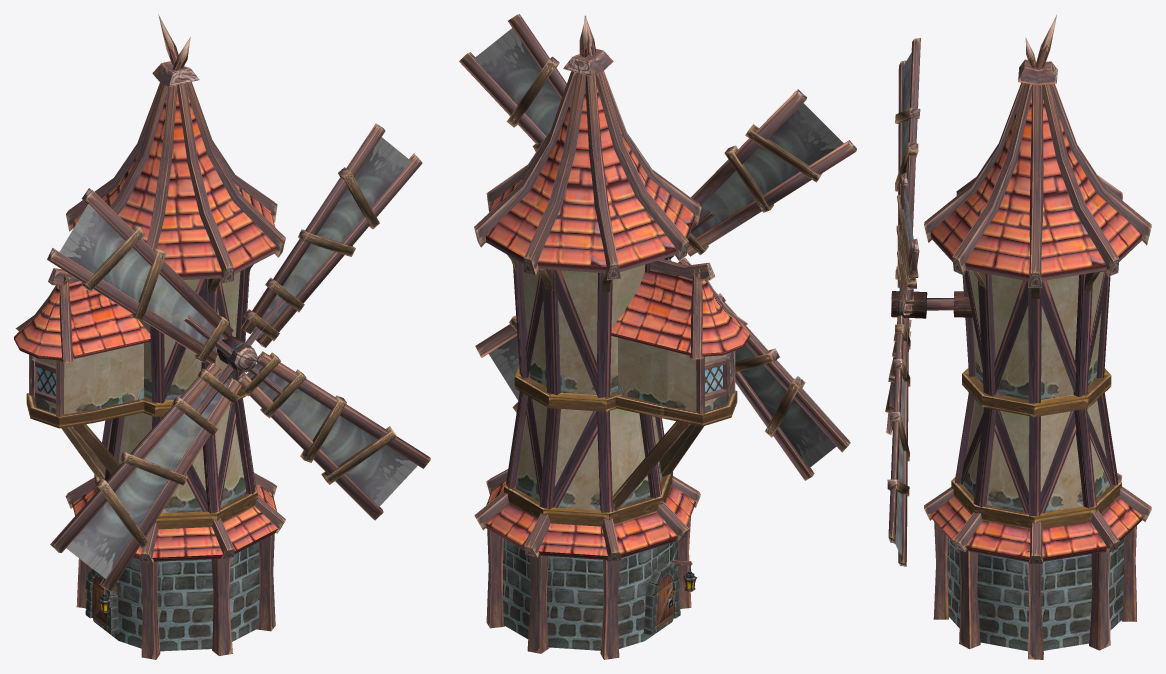
File: Windmill.FBX
The picture shows the model from 3 angles, left to right: view 1: azimuth 30°, elevation 25°; view 2: azimuth 150°, elevation 25°; view 3: azimuth 270°, elevation 25°; orthographic projection. The views are drawn at different scales.
Parts seen in each view (by area): view 1: Windmill_Base, Windmill_Fan; view 2: Windmill_Base, Windmill_Fan; view 3: Windmill_Base, Windmill_Fan.
Boxes of the visible parts, <box> form: Windmill_Base: <box>14,14,285,659</box>; Windmill_Fan: <box>47,123,430,591</box>; Windmill_Base: <box>474,15,749,659</box>; Windmill_Fan: <box>459,14,856,480</box>; Windmill_Base: <box>924,15,1151,659</box>; Windmill_Fan: <box>885,38,953,566</box>.
Size of the model in its own units: 385 by 577 by 232.
